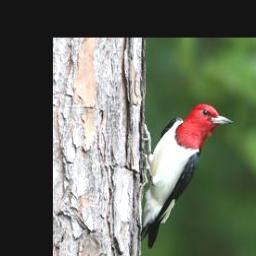Woodpecker: (136, 103, 237, 248)
